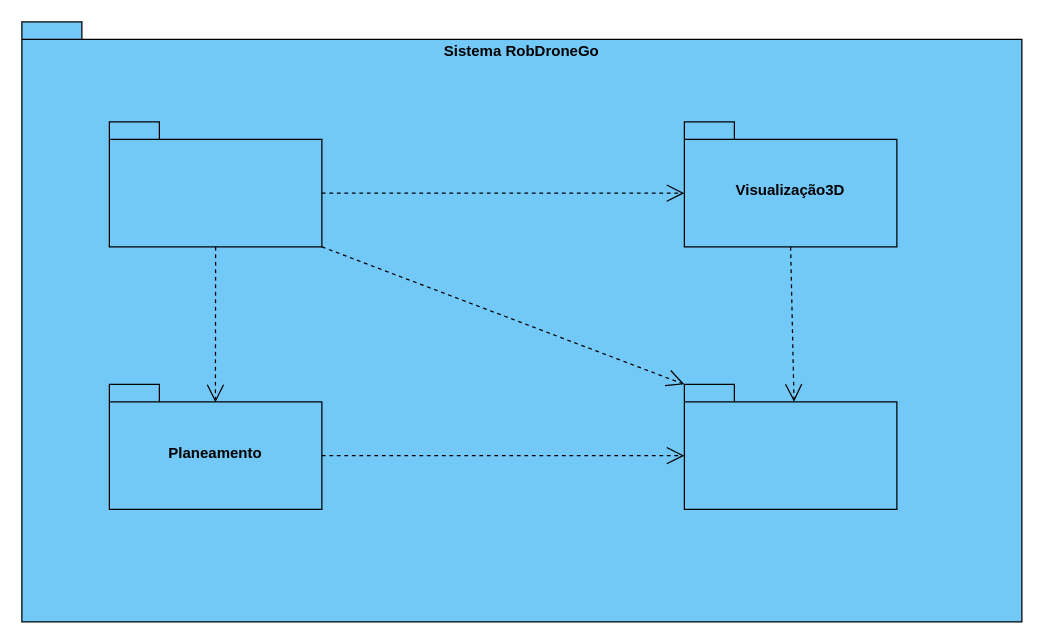
Image size: 1044x644. Some labels were removed from this diagram. The centre of each missing label's shape, as x and y in pixels:
"Frontend" goes at point 215,184.
"MDRoboISEP" goes at point 790,446.
